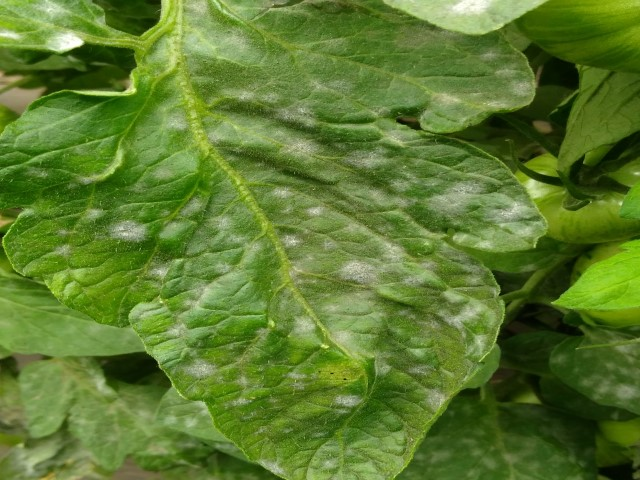blanca: (433, 177, 480, 217), (344, 141, 389, 171), (496, 196, 530, 229), (114, 216, 147, 244), (279, 136, 315, 159), (184, 360, 217, 382), (338, 390, 366, 412), (348, 261, 374, 284), (165, 111, 188, 137), (82, 204, 109, 225), (509, 81, 534, 102), (293, 309, 314, 333), (280, 231, 300, 250), (153, 261, 168, 283), (276, 186, 291, 199), (309, 205, 323, 216)
